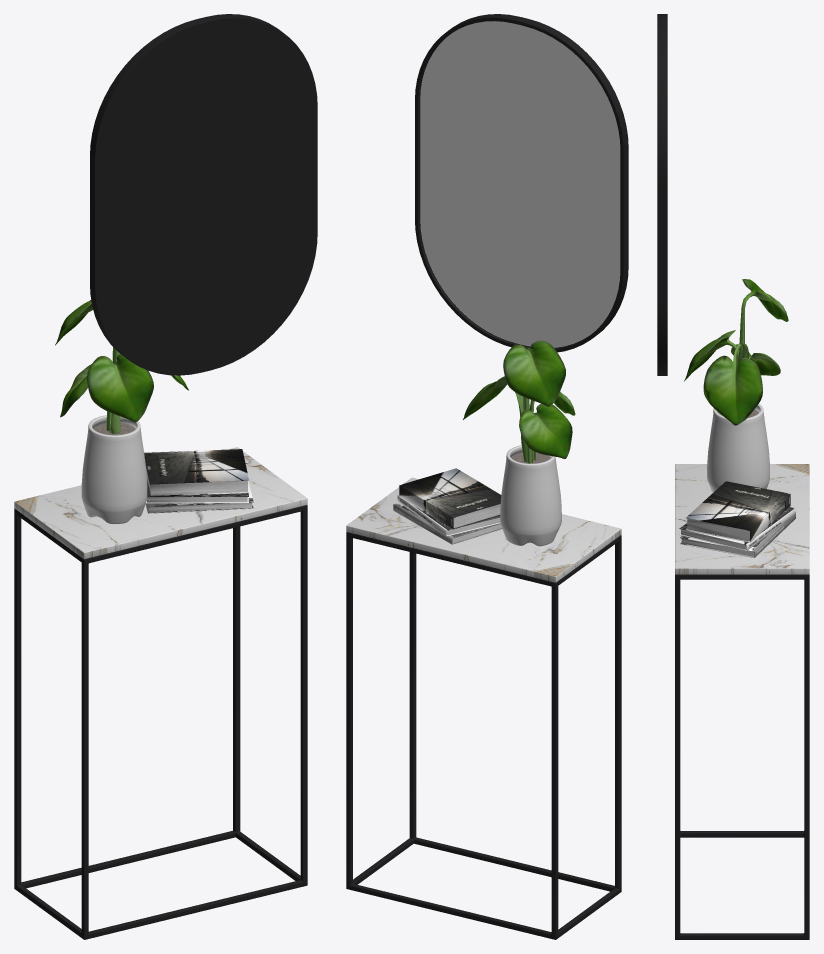
The model's file is arredamento_dx.glb.
3 renders of one model, left to right at view 1: azimuth 30°, elevation 25°; view 2: azimuth 150°, elevation 25°; view 3: azimuth 270°, elevation 25°, orthographic. The views are drawn at different scales.
Visible parts, largest first — view 1: Specchio, tavolo, Libri, vaso, LEAF.007, LEAF.001; view 2: Specchio, tavolo, Libri, vaso, LEAF.005, LEAF.001, LEAF.004; view 3: tavolo, Libri, vaso, Specchio, LEAF.004, LEAF.005, LEAF.007, LEAF.001.
Boxes of the visible parts, bbox=[...] form: Specchio: bbox=[90, 14, 317, 375]; tavolo: bbox=[14, 447, 307, 939]; Libri: bbox=[144, 449, 253, 513]; vaso: bbox=[81, 415, 147, 524]; LEAF.007: bbox=[87, 354, 153, 422]; LEAF.001: bbox=[60, 364, 110, 431]; Specchio: bbox=[415, 14, 628, 352]; tavolo: bbox=[346, 477, 621, 939]; Libri: bbox=[393, 468, 502, 544]; vaso: bbox=[500, 445, 561, 546]; LEAF.005: bbox=[503, 340, 565, 445]; LEAF.001: bbox=[519, 403, 572, 463]; LEAF.004: bbox=[462, 376, 535, 462]; tavolo: bbox=[675, 464, 809, 939]; Libri: bbox=[679, 481, 795, 557]; vaso: bbox=[707, 404, 769, 492]; Specchio: bbox=[657, 14, 667, 375]; LEAF.004: bbox=[703, 343, 762, 425]; LEAF.005: bbox=[738, 279, 788, 360]; LEAF.007: bbox=[684, 330, 739, 381]; LEAF.001: bbox=[731, 344, 780, 375].
Bounding box in the file's own units: 0.5257 × 2.01 × 0.3218.
10 materials, 7 textured.
